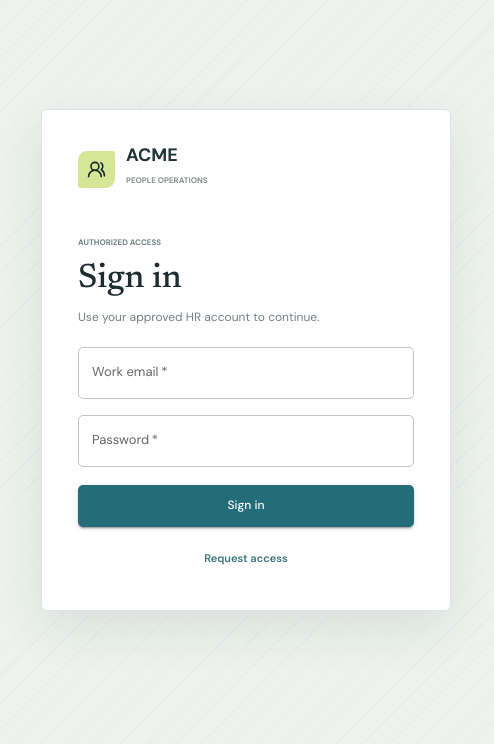
it: salary workspace › submits a registration request without creating a client session
Click the button "Request access" at (246, 558), box [196,543,296,574]
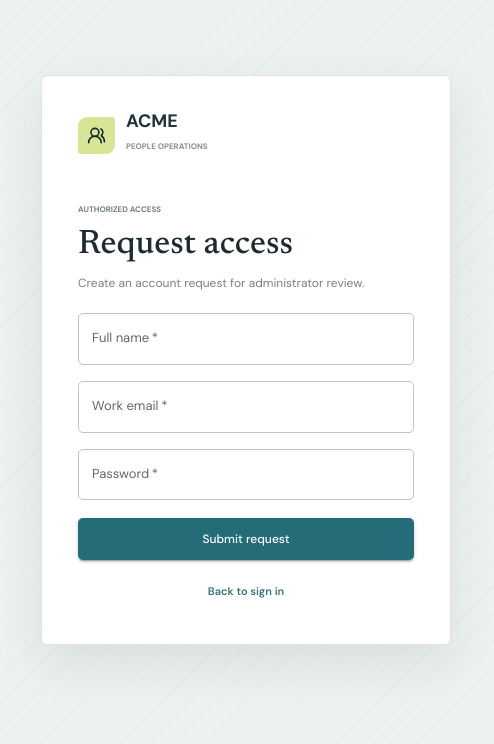
Type "New HR User" into the field labelled "Full name" at (246, 339), box [78,313,414,365]
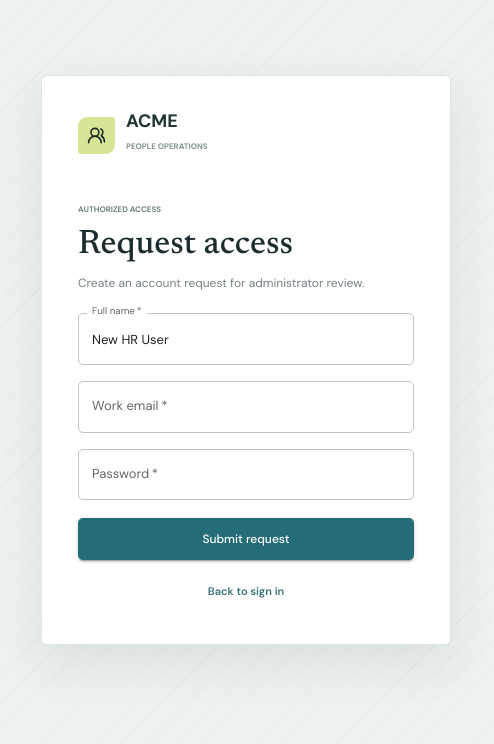
Type "new-hr@example.com" into the field labelled "Work email" at (246, 407), box [78,381,414,433]
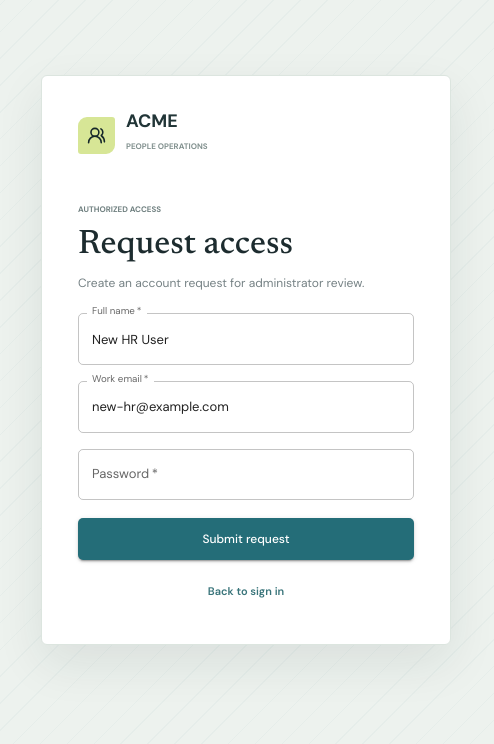
Type "correct horse battery staple" into the password field labelled "Password *" at (246, 475), box [78,449,414,500]
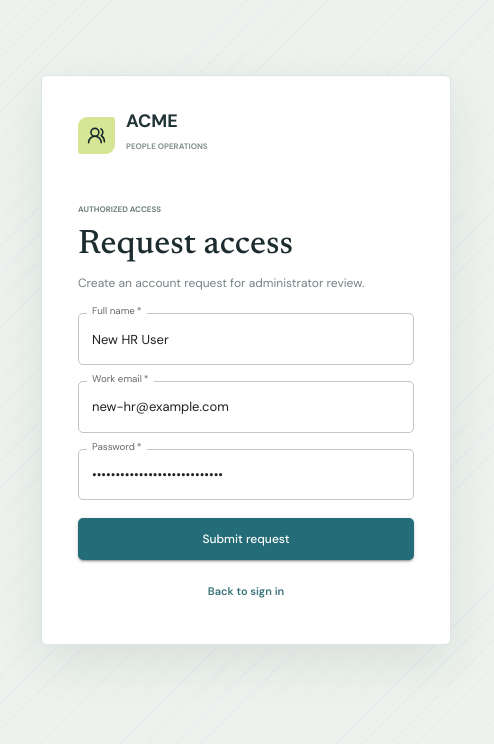
Click the button "Submit request" at (246, 539), box [78,518,414,560]
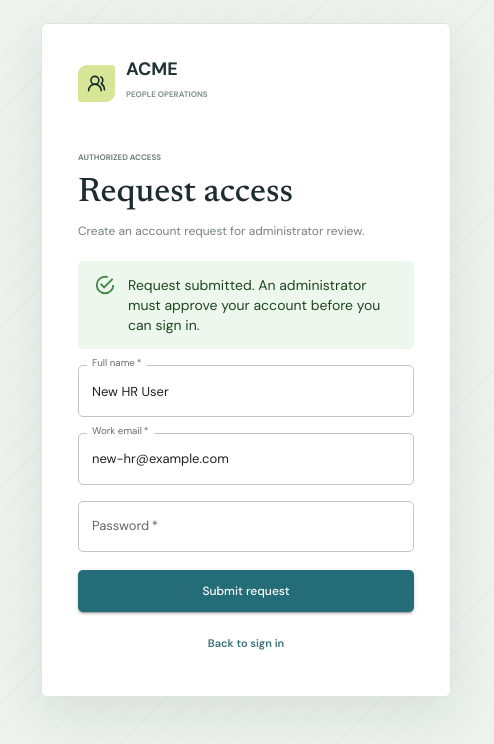
Now the text "must approve your account before you can sign in" is shown, box [128,276,380,334]
